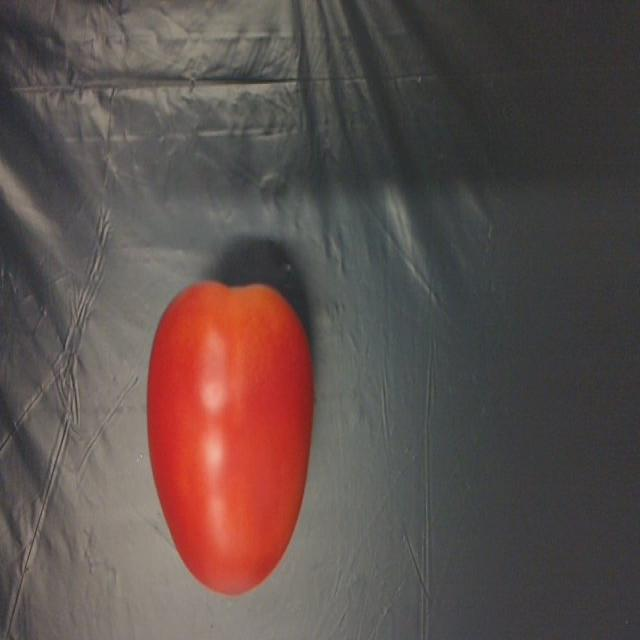kirmizi: (147, 261, 303, 611)
